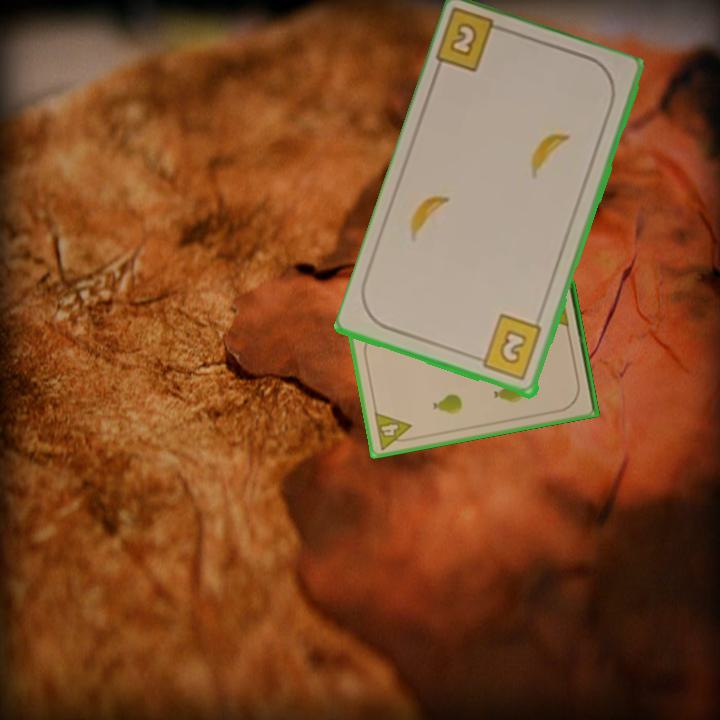2b: (471, 311, 546, 384), (434, 8, 513, 76)
4p: (371, 408, 416, 453)
